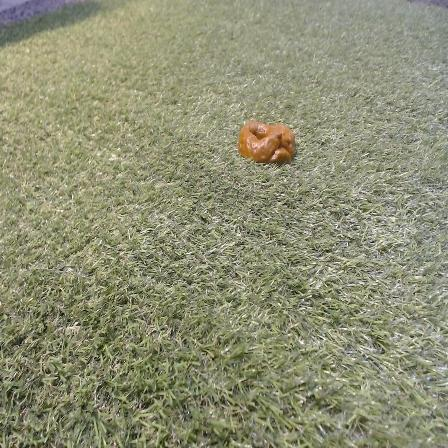dog-poop: (237, 115, 300, 170)
